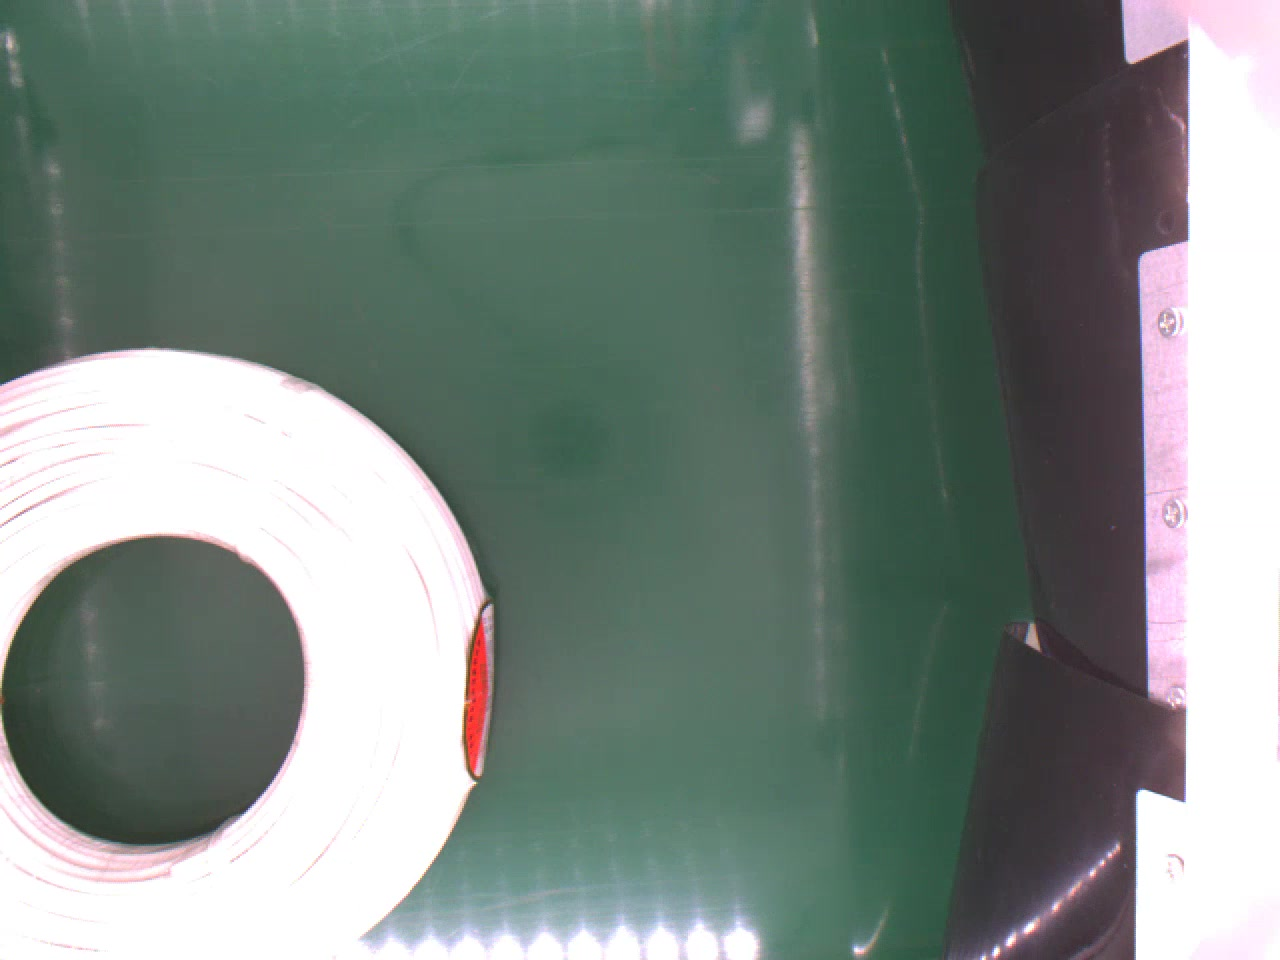white: (0, 344, 497, 960)
